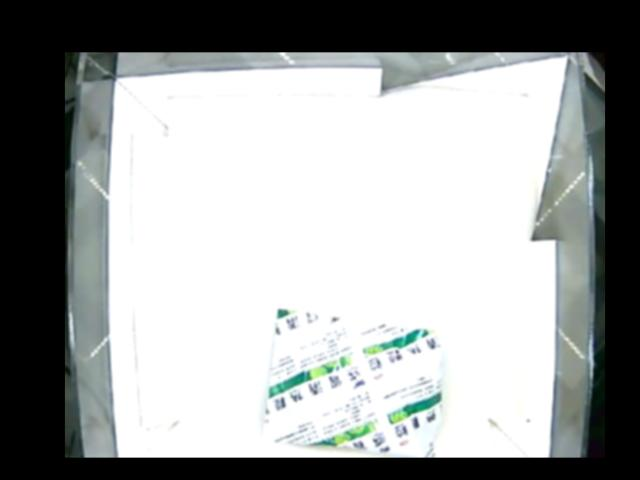Medicine: (261, 308, 446, 457)
